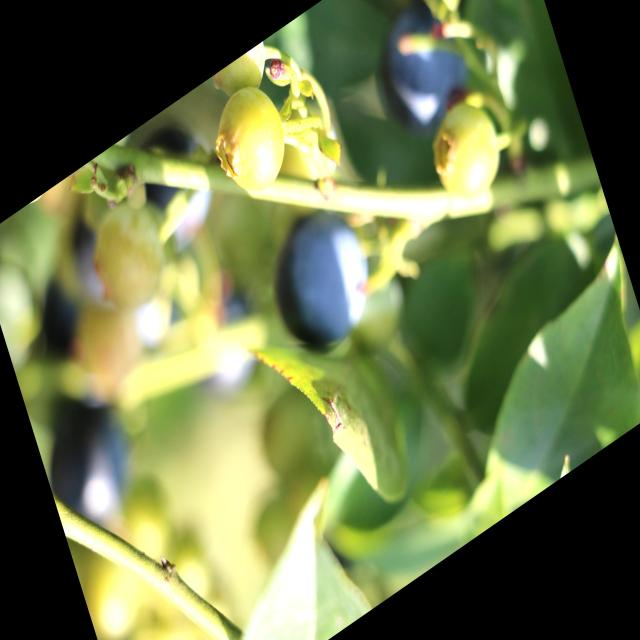blueberry: (256, 185, 383, 375), (35, 369, 147, 550), (353, 0, 480, 153)
blueberry-unripe: (206, 72, 296, 210), (423, 90, 511, 218), (210, 39, 278, 117)
